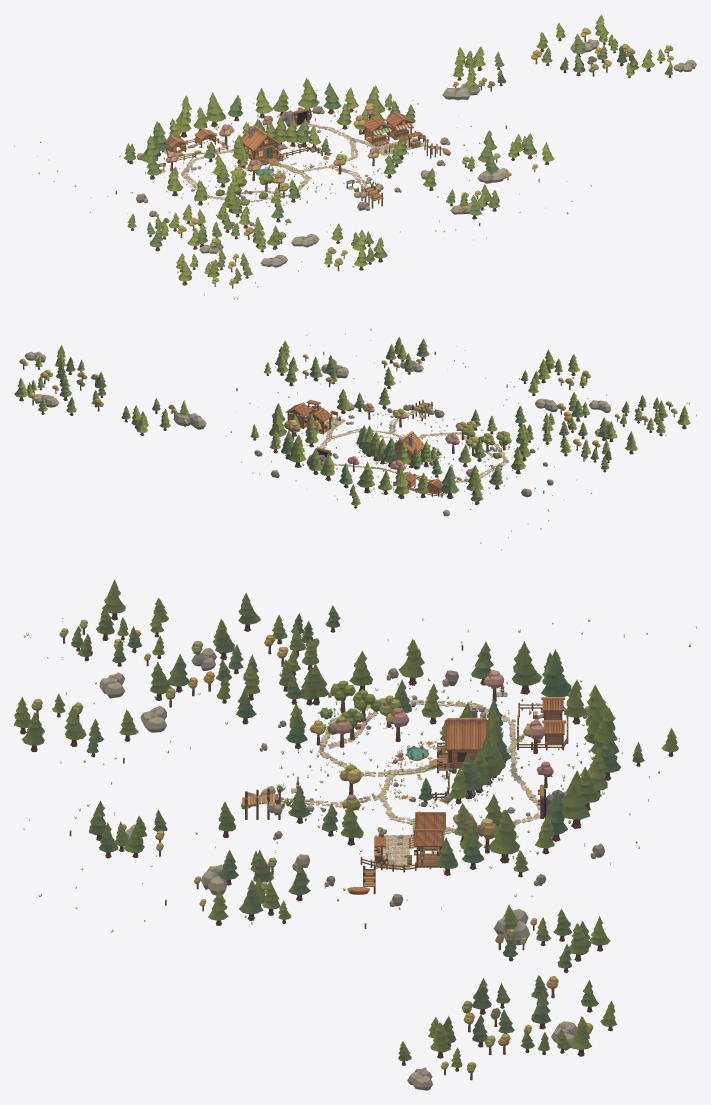
File: island.glb
3 renders of one model, top to bottom at view 1: azimuth 30°, elevation 25°; view 2: azimuth 150°, elevation 25°; view 3: azimuth 270°, elevation 25°, orthographic. The views are drawn at different scales.
Visible parts, largest first — view 1: Waldwinkel · Hecken und Weidepfad, Großer Wald und Blütenbäume, Hafenmarkt · Saatgutladen, Ankauf und Schmiede, Nadelwald · Kiefern und Tannen, Waldwege und Küstenwiese, Sandbucht, Steg und Mineneingang, Geröll und Uferfelsen, Tierweide · Stall, Tröge und Holzpforte, Obstwiese · Apfelbäume und Beerenbüsche, Markt- und Hofwege, Hütte · Wände, Fenster und Tür, Hütte · Dach und Kamin; view 2: Waldwinkel · Hecken und Weidepfad, Großer Wald und Blütenbäume, Nadelwald · Kiefern und Tannen, Waldwege und Küstenwiese, Hafenmarkt · Saatgutladen, Ankauf und Schmiede, Sandbucht, Steg und Mineneingang, Obstwiese · Apfelbäume und Beerenbüsche, Geröll und Uferfelsen, Tierweide · Stall, Tröge und Holzpforte; view 3: Waldwinkel · Hecken und Weidepfad, Großer Wald und Blütenbäume, Nadelwald · Kiefern und Tannen, Hafenmarkt · Saatgutladen, Ankauf und Schmiede, Waldwege und Küstenwiese, Obstwiese · Apfelbäume und Beerenbüsche, Sandbucht, Steg und Mineneingang, Geröll und Uferfelsen, Tierweide · Stall, Tröge und Holzpforte, Hütte · Dach und Kamin, Markt- und Hofwege, Blumen am Waldrand.
Boxes of the visible parts, x1=… form: Waldwinkel · Hecken und Weidepfad: x1=14, y1=14, x2=696, y2=299; Großer Wald und Blütenbäume: x1=140, y1=78, x2=415, y2=212; Hafenmarkt · Saatgutladen, Ankauf und Schmiede: x1=362, y1=111, x2=450, y2=158; Nadelwald · Kiefern und Tannen: x1=232, y1=116, x2=330, y2=168; Waldwege und Küstenwiese: x1=181, y1=123, x2=369, y2=202; Sandbucht, Steg und Mineneingang: x1=184, y1=107, x2=388, y2=208; Geröll und Uferfelsen: x1=136, y1=106, x2=450, y2=226; Tierweide · Stall, Tröge und Holzpforte: x1=162, y1=128, x2=228, y2=162; Obstwiese · Apfelbäume und Beerenbüsche: x1=215, y1=167, x2=273, y2=207; Markt- und Hofwege: x1=183, y1=137, x2=424, y2=195; Hütte · Wände, Fenster und Tür: x1=243, y1=137, x2=277, y2=160; Hütte · Dach und Kamin: x1=242, y1=124, x2=280, y2=151; Waldwinkel · Hecken und Weidepfad: x1=14, y1=328, x2=696, y2=550; Großer Wald und Blütenbäume: x1=269, y1=387, x2=530, y2=498; Nadelwald · Kiefern und Tannen: x1=356, y1=425, x2=438, y2=469; Waldwege und Küstenwiese: x1=319, y1=410, x2=508, y2=482; Hafenmarkt · Saatgutladen, Ankauf und Schmiede: x1=285, y1=400, x2=340, y2=434; Sandbucht, Steg und Mineneingang: x1=306, y1=399, x2=503, y2=490; Obstwiese · Apfelbäume und Beerenbüsche: x1=461, y1=425, x2=511, y2=458; Geröll und Uferfelsen: x1=254, y1=402, x2=553, y2=516; Tierweide · Stall, Tröge und Holzpforte: x1=393, y1=471, x2=447, y2=497; Waldwinkel · Hecken und Weidepfad: x1=14, y1=579, x2=696, y2=1090; Großer Wald und Blütenbäume: x1=286, y1=639, x2=620, y2=875; Nadelwald · Kiefern und Tannen: x1=418, y1=702, x2=511, y2=804; Hafenmarkt · Saatgutladen, Ankauf und Schmiede: x1=347, y1=812, x2=445, y2=894; Waldwege und Küstenwiese: x1=269, y1=699, x2=540, y2=832; Obstwiese · Apfelbäume und Beerenbüsche: x1=317, y1=680, x2=401, y2=742; Sandbucht, Steg und Mineneingang: x1=242, y1=695, x2=566, y2=845; Geröll und Uferfelsen: x1=241, y1=668, x2=604, y2=906; Tierweide · Stall, Tröge und Holzpforte: x1=517, y1=697, x2=568, y2=750; Hütte · Dach und Kamin: x1=444, y1=707, x2=487, y2=750; Markt- und Hofwege: x1=327, y1=711, x2=538, y2=868; Blumen am Waldrand: x1=279, y1=678, x2=604, y2=872.
Bounding box in the file's own units: 110 × 7.87 × 66.68.
